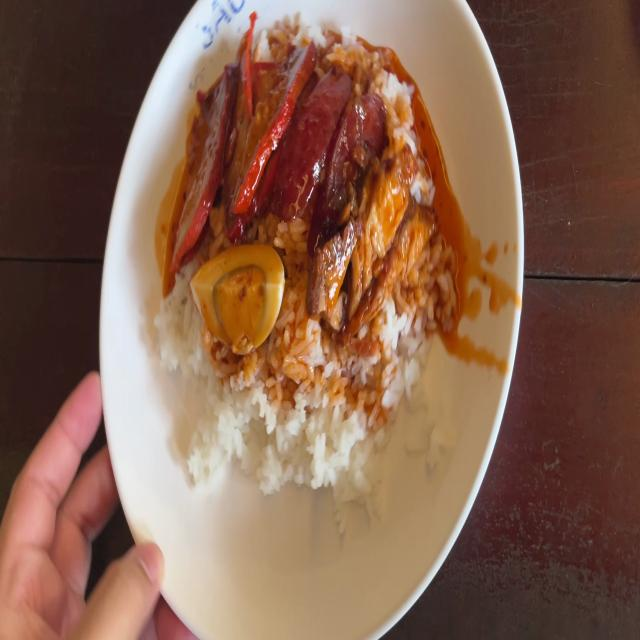red_pork_and_crispy_pork: (191, 248, 284, 346)
stir_fried_basil: (292, 70, 368, 218)
